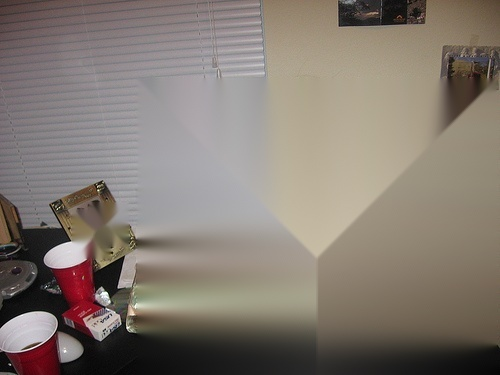bottle: (124, 107, 230, 343)
